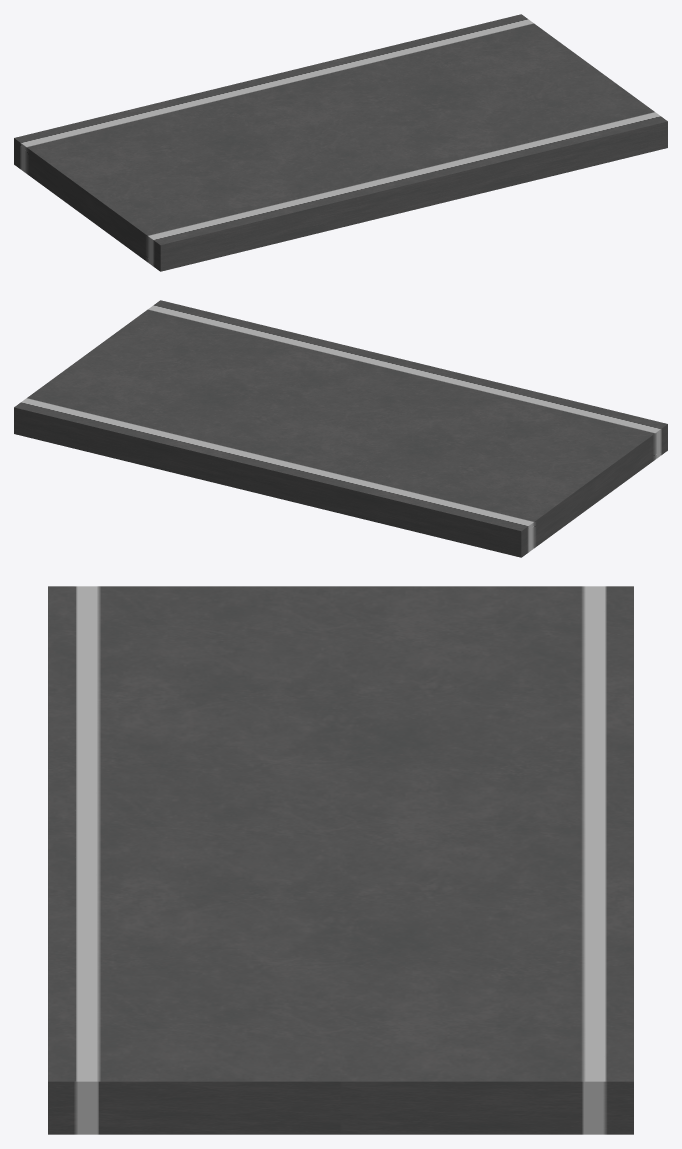
File: rua_coletora_reto_Texturizada.fbx
3 renders of one model, top to bottom at view 1: azimuth 30°, elevation 25°; view 2: azimuth 150°, elevation 25°; view 3: azimuth 270°, elevation 25°, orthographic. The views are drawn at different scales.
Parts seen in each view (by area): view 1: rua reta; view 2: rua reta; view 3: rua reta.
Part boxes in pixels (x1,y1,x2,y2): rua reta: (14, 14, 667, 271); rua reta: (14, 300, 667, 557); rua reta: (48, 586, 633, 1134).
Bounding box in the file's own units: 400 × 20 × 200.
Materials: 1 (1 with a texture image).
